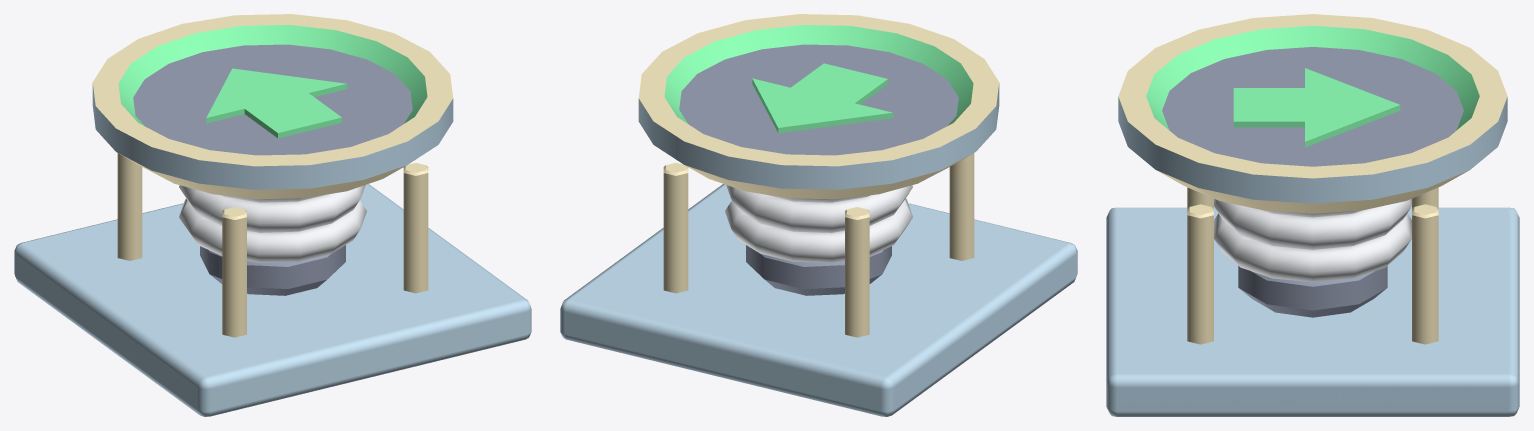
File: R4X_JumpPadDeployer.fbx
3 renders of one model, left to right at view 1: azimuth 30°, elevation 25°; view 2: azimuth 150°, elevation 25°; view 3: azimuth 270°, elevation 25°, orthographic. The views are drawn at different scales.
Parts seen in each view (by area): view 1: R4X_JumpPadDeployer_Body, R4X_JumpPadDeployer_Pad; view 2: R4X_JumpPadDeployer_Body, R4X_JumpPadDeployer_Pad; view 3: R4X_JumpPadDeployer_Body, R4X_JumpPadDeployer_Pad.
Part boxes in pixels (x1,y1,x2,y2): R4X_JumpPadDeployer_Body: (14,153,531,416); R4X_JumpPadDeployer_Pad: (92,14,453,199); R4X_JumpPadDeployer_Body: (560,153,1077,416); R4X_JumpPadDeployer_Pad: (638,14,999,199); R4X_JumpPadDeployer_Body: (1106,187,1519,416); R4X_JumpPadDeployer_Pad: (1118,14,1507,213).
Bounding box in the file's own units: 0.52 × 0.33 × 0.52.
